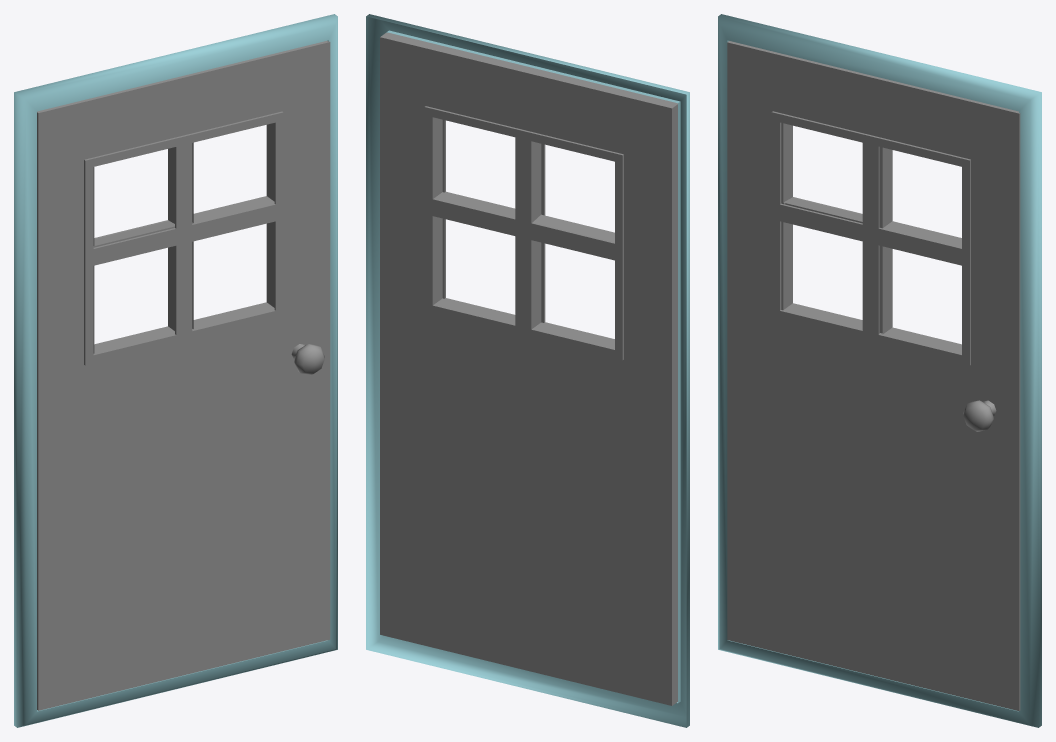
File: HS_I_Door_model_v1.FBX
3 renders of one model, left to right at view 1: azimuth 30°, elevation 25°; view 2: azimuth 150°, elevation 25°; view 3: azimuth 330°, elevation 25°, orthographic.
Parts seen in each view (by area): view 1: door01, door02, door03; view 2: door01, door02; view 3: door01, door02, door03.
Part boxes in pixels (x1,y1,x2,y2): door01: (37, 41, 330, 710); door02: (14, 14, 337, 727); door03: (291, 344, 324, 375); door01: (380, 32, 677, 705); door02: (366, 14, 689, 727); door01: (727, 41, 1020, 710); door02: (718, 14, 1041, 727); door03: (963, 400, 996, 431).
Bounding box in the file's own units: 94.27 × 178 × 13.05.
